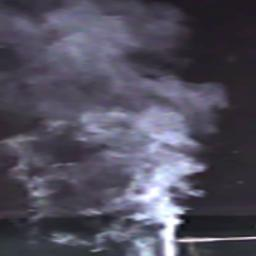smoke: (0, 0, 239, 256)
